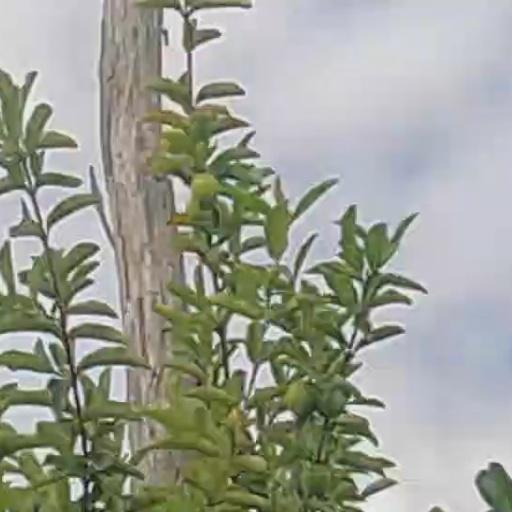acerola: (288, 382, 316, 414), (190, 175, 217, 202)
